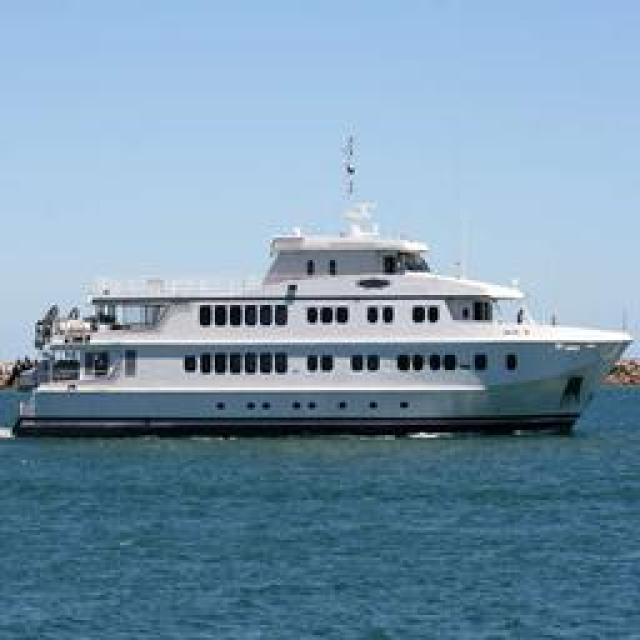Ship: (12, 166, 620, 439)
